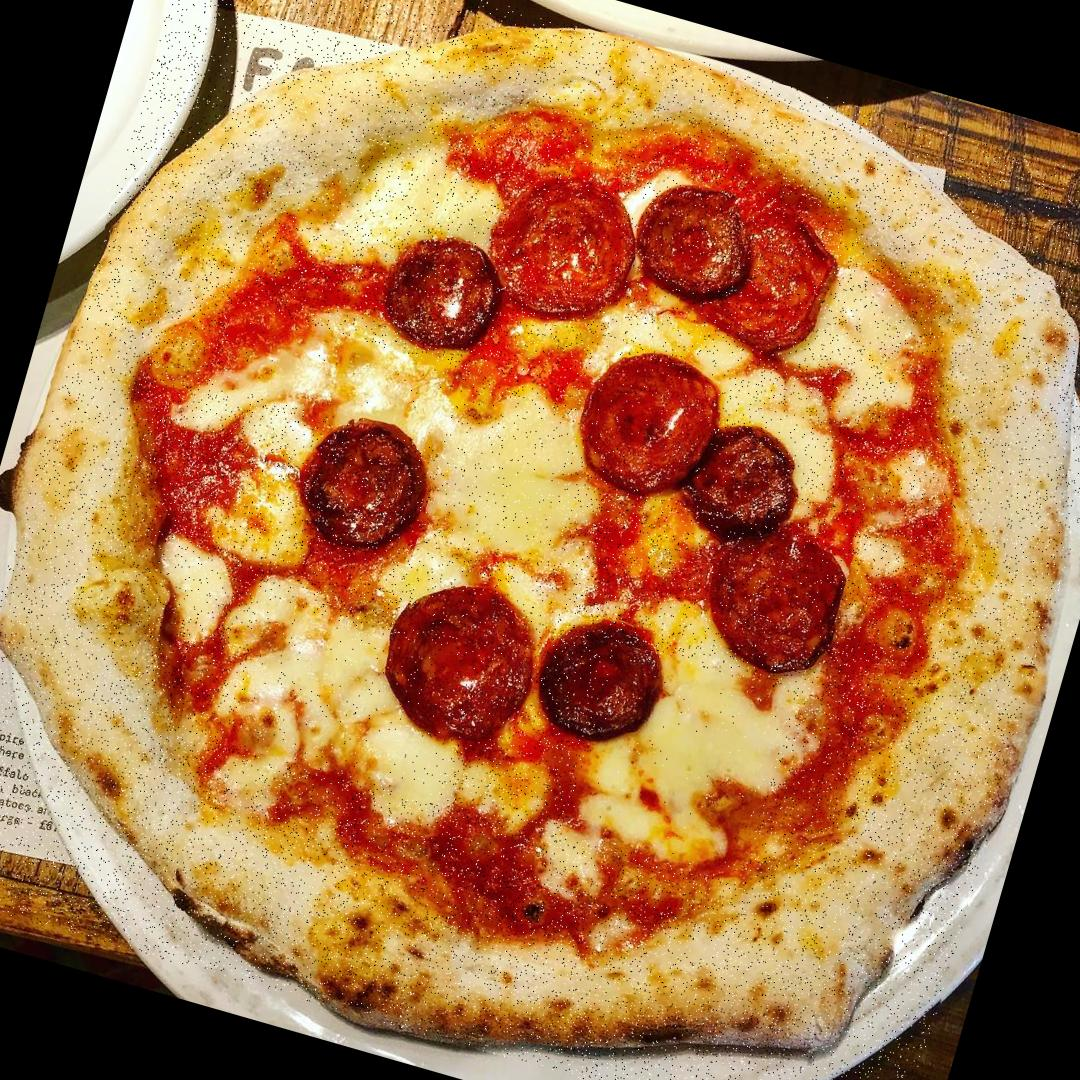Cheese: (564, 644, 794, 884), (228, 600, 473, 802), (215, 306, 464, 450), (289, 130, 498, 282), (422, 386, 597, 566)
Pepperoni: (378, 562, 552, 752), (671, 203, 852, 368), (269, 400, 445, 566), (562, 336, 732, 506), (483, 168, 654, 326), (682, 517, 853, 675), (605, 166, 765, 332), (676, 408, 819, 558), (532, 603, 675, 750), (368, 224, 508, 359)
Pizza: (0, 0, 1080, 1080)
